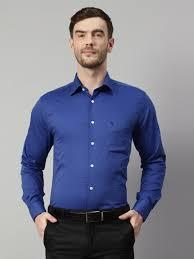shirt: (18, 73, 168, 222)
